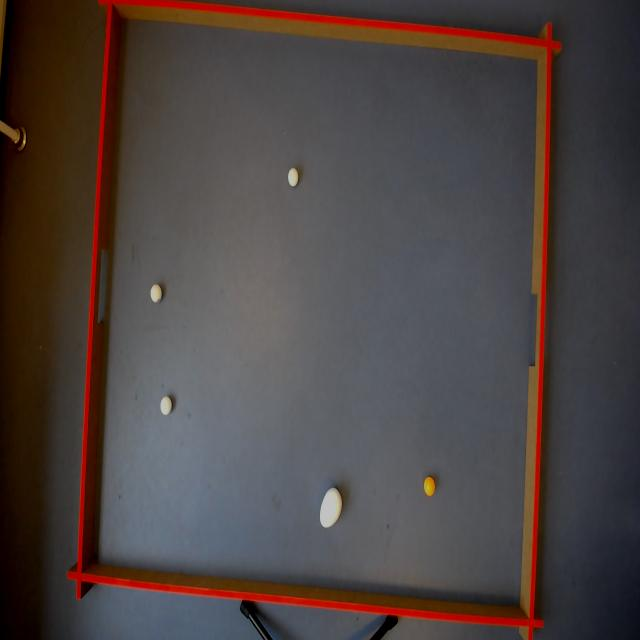egg: (319, 485, 343, 531)
orange_ball: (424, 475, 436, 499)
white_ball: (159, 394, 173, 418), (287, 166, 300, 189), (150, 282, 162, 306)
